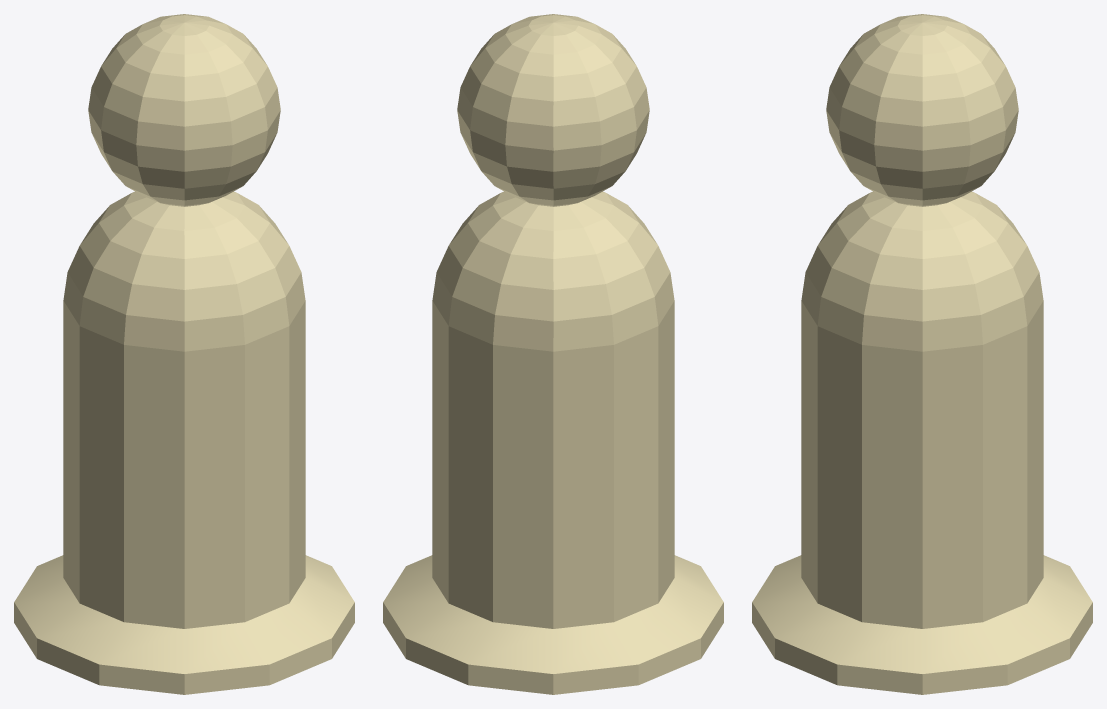
The model's file is Lever_Flag_Character.fbx.
3 views of the same model, side by side, from view 1: azimuth 30°, elevation 25°; view 2: azimuth 150°, elevation 25°; view 3: azimuth 270°, elevation 25° (orthographic).
Parts seen in each view (by area): view 1: Lever_Flag_Character; view 2: Lever_Flag_Character; view 3: Lever_Flag_Character.
Part boxes in pixels (box(x1,y1,x2,y2)): Lever_Flag_Character: box(14, 14, 354, 694); Lever_Flag_Character: box(383, 14, 723, 694); Lever_Flag_Character: box(752, 14, 1092, 694).
Size of the model in its own units: 6.27 by 12.18 by 6.27.
